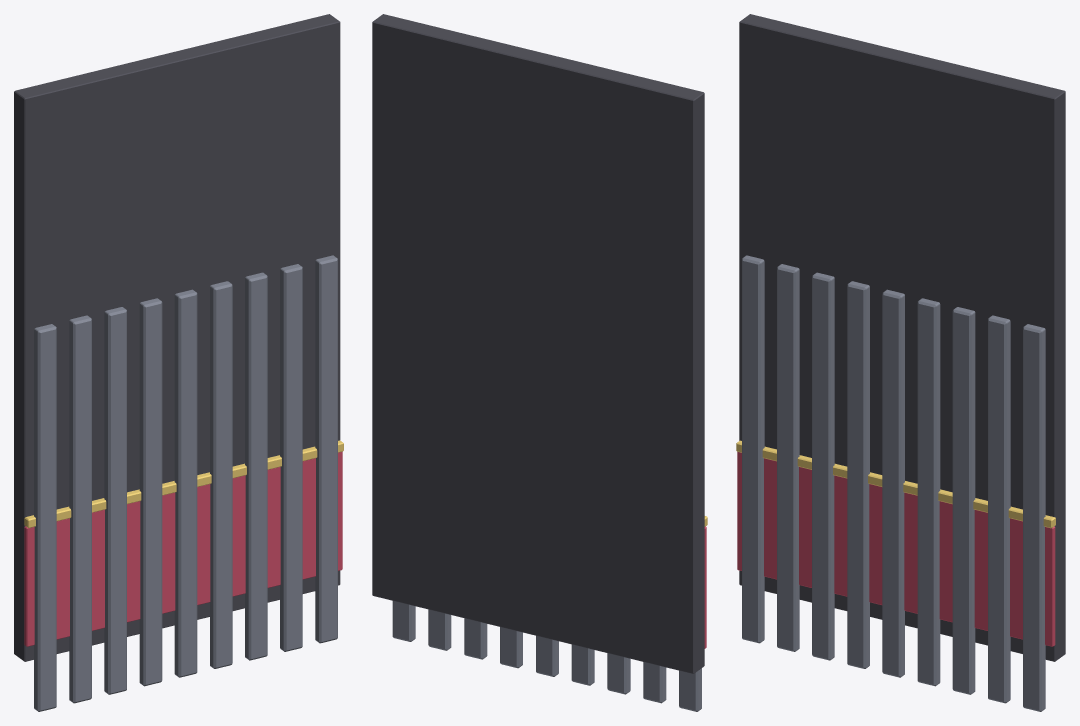
File: cinema-multiplex-and-foyer-acoustic-wall-panel-module-a623eafe__34652.glb
The picture shows the model from 3 angles, left to right: view 1: azimuth 30°, elevation 25°; view 2: azimuth 150°, elevation 25°; view 3: azimuth 330°, elevation 25°; orthographic projection.
Visible parts, largest first — view 1: acoustic-wall-panel-module; view 2: acoustic-wall-panel-module; view 3: acoustic-wall-panel-module.
Boxes of the visible parts, x1=… form: acoustic-wall-panel-module: x1=14, y1=14, x2=343, y2=711; acoustic-wall-panel-module: x1=372, y1=14, x2=707, y2=711; acoustic-wall-panel-module: x1=736, y1=14, x2=1065, y2=711.
Size of the model in its own units: 2 by 3.69 by 0.186.
